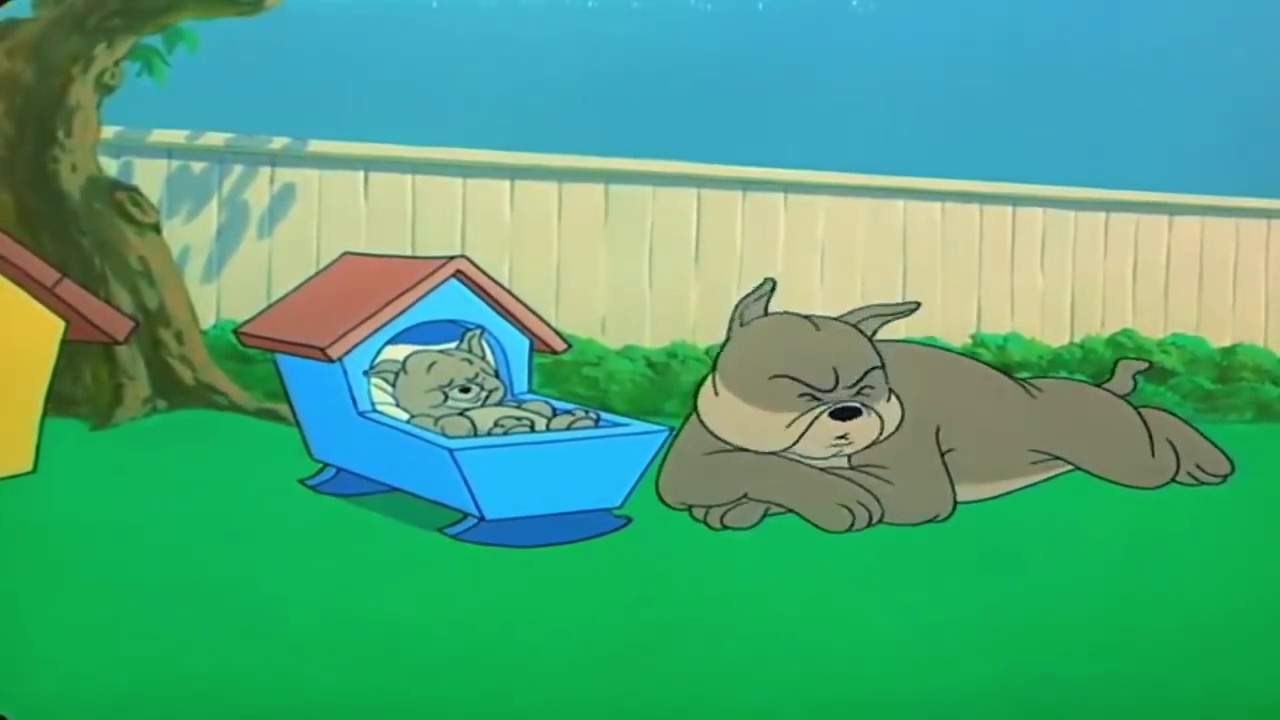spike: (693, 275, 921, 459)
